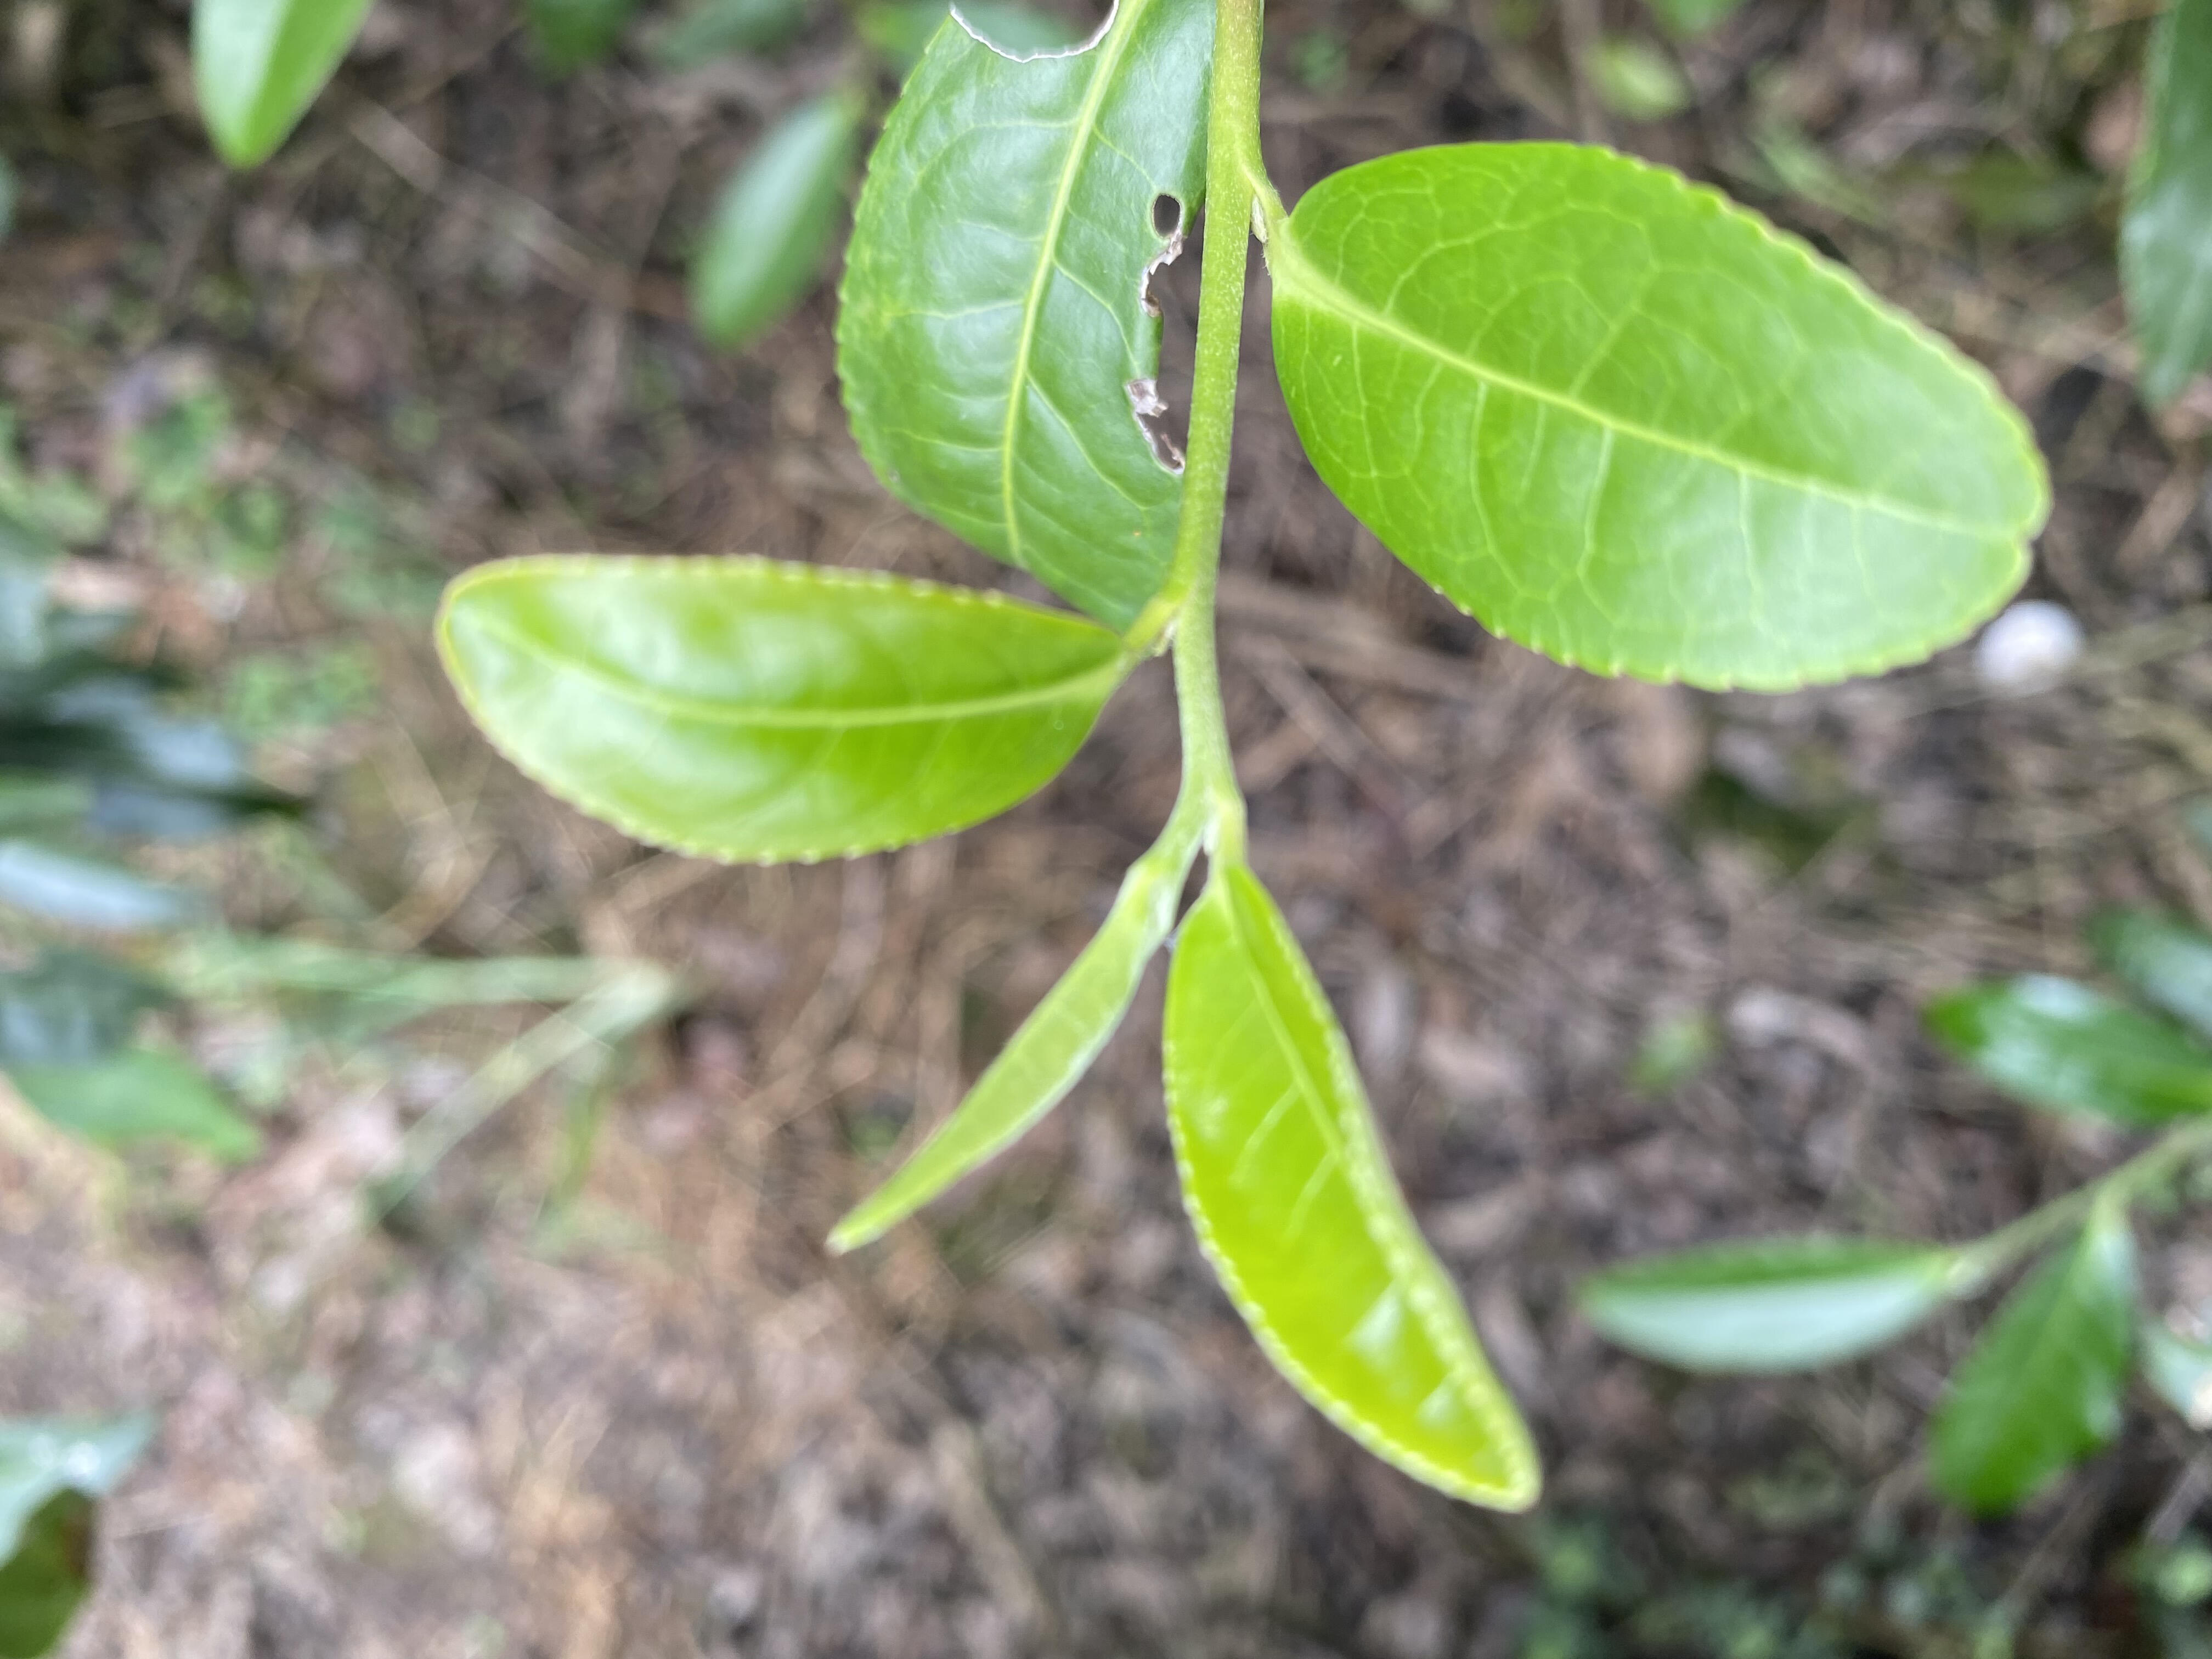chihuo_high: (834, 5, 1216, 660)
healthy: (1268, 139, 2059, 694), (1157, 866, 1538, 1516), (430, 554, 1137, 871)
